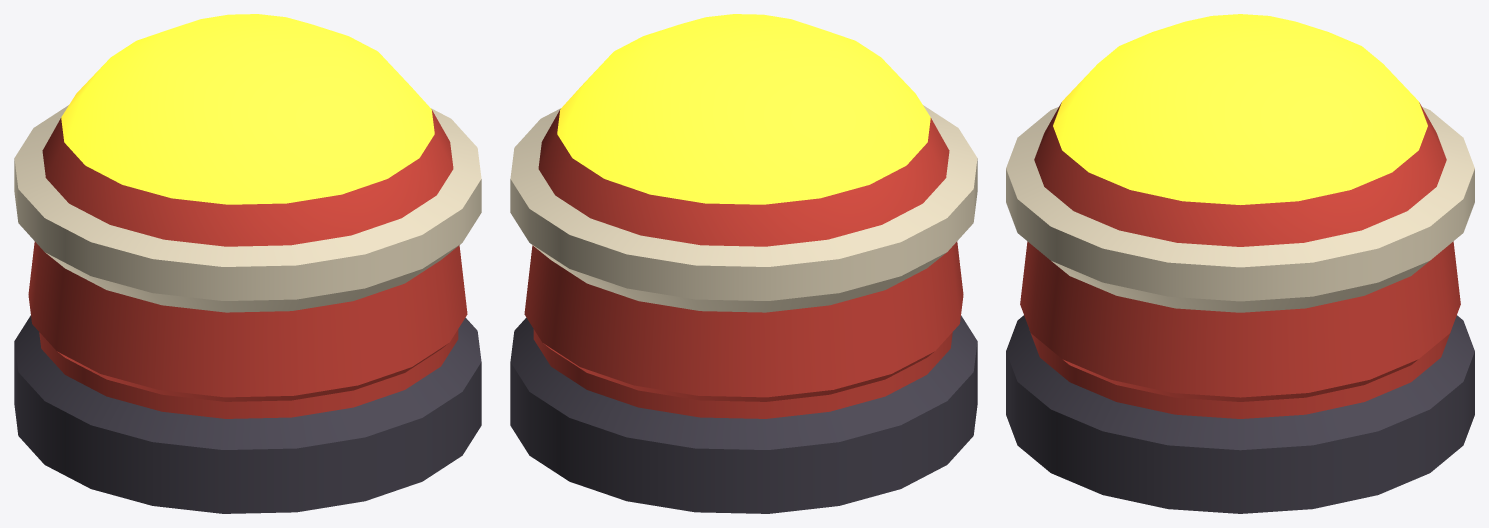
Rendered from bumper_post.glb.
The picture shows the model from 3 angles, left to right: view 1: azimuth 30°, elevation 25°; view 2: azimuth 150°, elevation 25°; view 3: azimuth 270°, elevation 25°; orthographic projection.
Visible parts, largest first — view 1: bumper_post; view 2: bumper_post; view 3: bumper_post.
Boxes of the visible parts, x1,y1,x2,y2 form: bumper_post: (14, 14, 481, 513); bumper_post: (510, 14, 977, 513); bumper_post: (1006, 14, 1474, 513).
Size of the model in its own units: 1 by 0.88 by 1.
